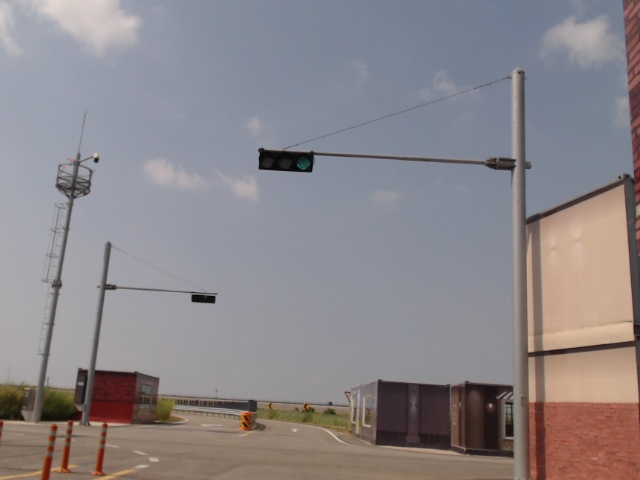green_3: (258, 149, 313, 173)
